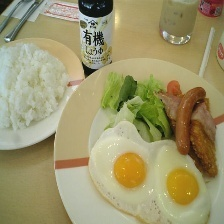rice: (0, 39, 75, 136)
